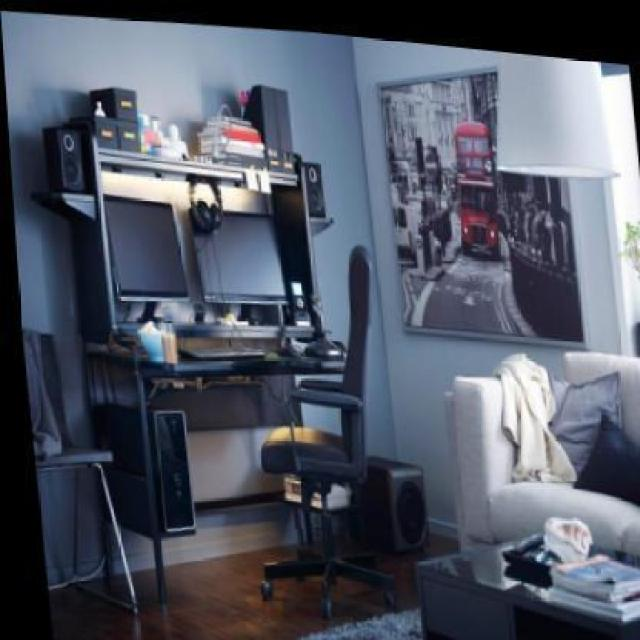tables: (85, 337, 346, 608)
